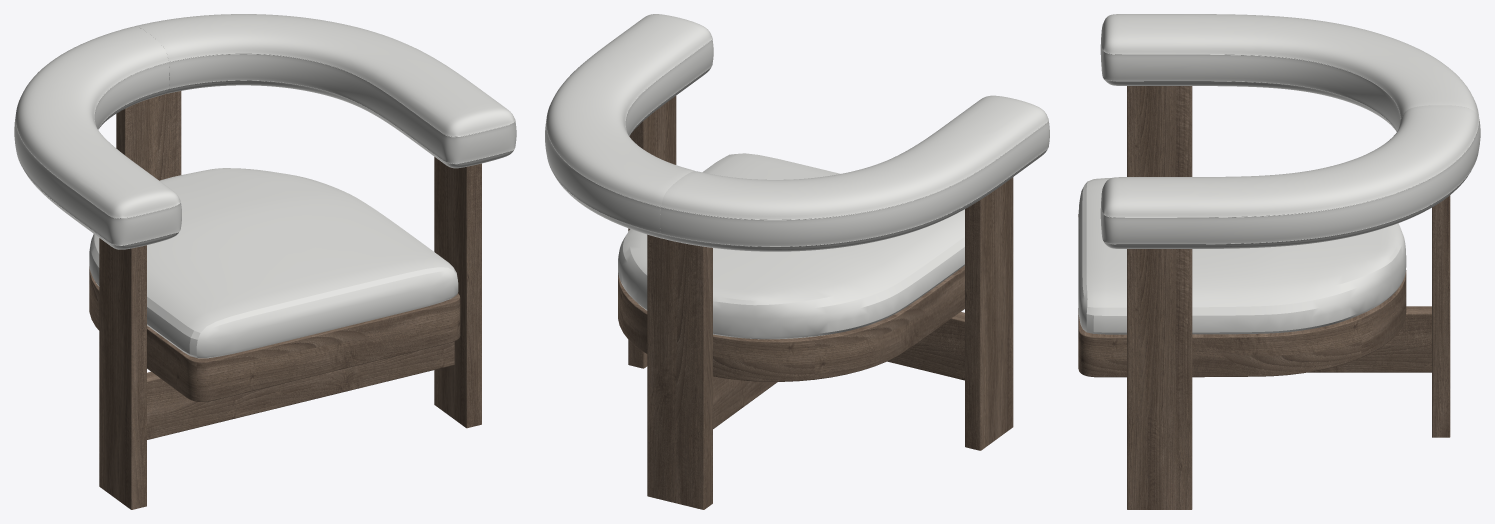
File: chair_minimal.glb
3 renders of one model, left to right at view 1: azimuth 30°, elevation 25°; view 2: azimuth 150°, elevation 25°; view 3: azimuth 270°, elevation 25°, orthographic.
Visible parts, largest first — view 1: Mesh2_M_10___Default_0, Mesh4_M_10___Default_0, Mesh1_M_11___Default_0, Mesh3_M_11___Default_0; view 2: Mesh2_M_10___Default_0, Mesh1_M_11___Default_0, Mesh4_M_10___Default_0, Mesh3_M_11___Default_0; view 3: Mesh2_M_10___Default_0, Mesh1_M_11___Default_0, Mesh4_M_10___Default_0, Mesh3_M_11___Default_0.
Part boxes in pixels (x1=…): Mesh2_M_10___Default_0: x1=14, y1=14, x2=516, y2=249; Mesh4_M_10___Default_0: x1=89, y1=168, x2=458, y2=358; Mesh1_M_11___Default_0: x1=99, y1=91, x2=481, y2=509; Mesh3_M_11___Default_0: x1=89, y1=266, x2=460, y2=401; Mesh2_M_10___Default_0: x1=545, y1=14, x2=1049, y2=251; Mesh1_M_11___Default_0: x1=628, y1=96, x2=1013, y2=509; Mesh4_M_10___Default_0: x1=618, y1=153, x2=964, y2=339; Mesh3_M_11___Default_0: x1=618, y1=265, x2=964, y2=381; Mesh2_M_10___Default_0: x1=1100, y1=14, x2=1480, y2=248; Mesh1_M_11___Default_0: x1=1127, y1=86, x2=1450, y2=509; Mesh4_M_10___Default_0: x1=1078, y1=178, x2=1406, y2=334; Mesh3_M_11___Default_0: x1=1078, y1=214, x2=1406, y2=377.
Bounding box in the file's own units: 0.4885 × 0.3664 × 0.4187.
2 materials, 1 textured.
